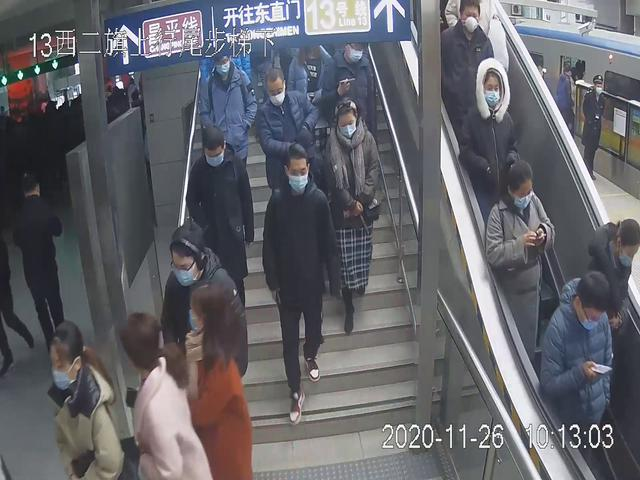person: (260, 143, 334, 431), (533, 269, 624, 480), (480, 149, 556, 375), (322, 94, 384, 337), (179, 280, 254, 480), (188, 123, 258, 331), (253, 66, 329, 229), (455, 55, 524, 226), (436, 1, 500, 158), (196, 47, 259, 199)
